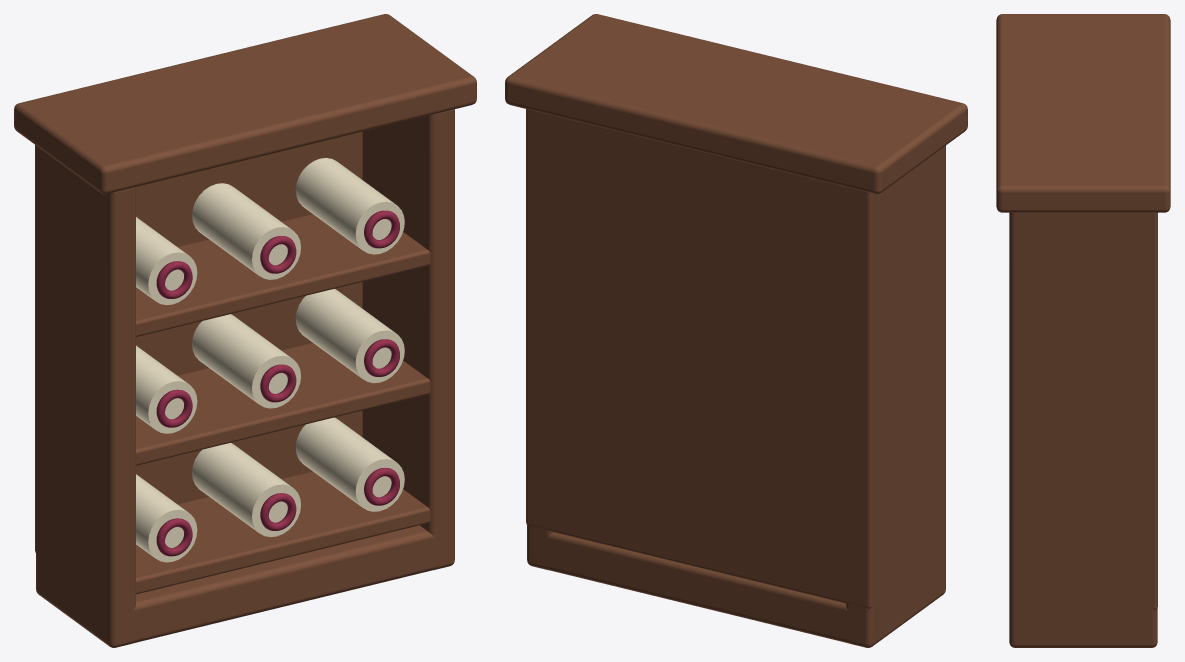
The model's file is royal-court-and-throne-palace-scroll-rack-b27ea000__29399.glb.
The picture shows the model from 3 angles, left to right: view 1: azimuth 30°, elevation 25°; view 2: azimuth 150°, elevation 25°; view 3: azimuth 270°, elevation 25°; orthographic projection. The views are drawn at different scales.
Visible parts, largest first — view 1: scroll-rack; view 2: scroll-rack; view 3: scroll-rack.
Part boxes in pixels (<box>): scroll-rack: <box>14,14,476,647</box>; scroll-rack: <box>505,14,967,647</box>; scroll-rack: <box>996,14,1170,647</box>.
Bounding box in the file's own units: 0.9801 × 1.22 × 0.41.
